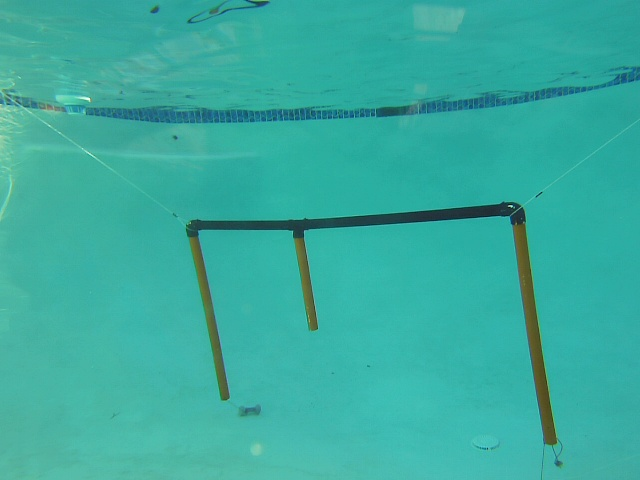Gate: (507, 218, 557, 450), (185, 229, 232, 404), (290, 232, 320, 332)
